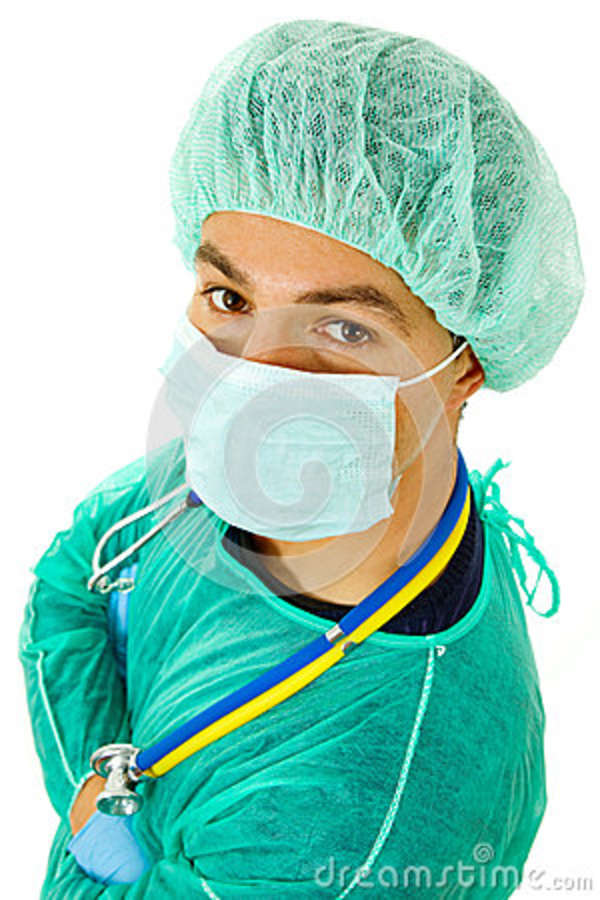mask: (152, 332, 419, 542)
